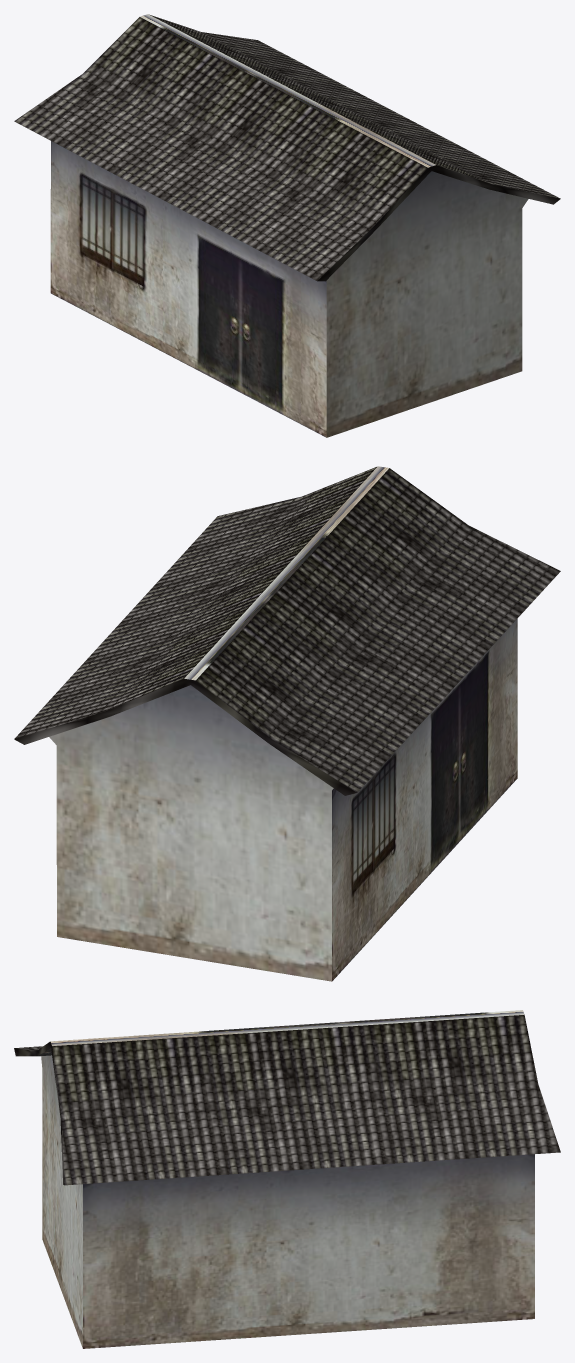
File: ian1565.obj
3 renders of one model, top to bottom at view 1: azimuth 30°, elevation 25°; view 2: azimuth 150°, elevation 25°; view 3: azimuth 270°, elevation 25°, orthographic. The views are drawn at different scales.
Parts seen in each view (by area): view 1: ian1565; view 2: ian1565; view 3: ian1565.
Part boxes in pixels (x1,y1,x2,y2): ian1565: [14, 14, 560, 437]; ian1565: [14, 466, 560, 981]; ian1565: [14, 1010, 560, 1348].
Bounding box in the file's own units: 143 × 99.21 × 195.
